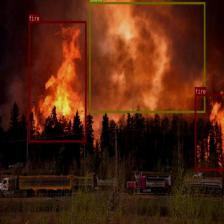fire: (28, 21, 86, 141), (194, 94, 224, 170)
smoke: (89, 2, 205, 112)
